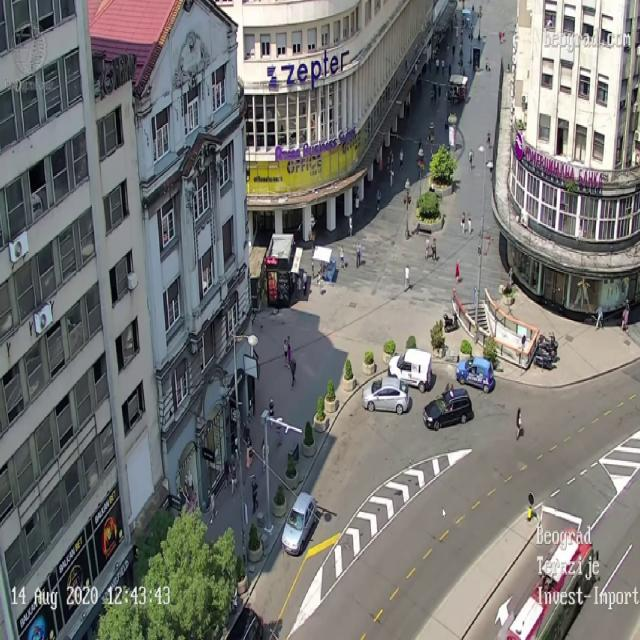bus: (506, 530, 596, 640)
car: (281, 492, 317, 556), (423, 391, 475, 431), (388, 347, 436, 390), (361, 376, 409, 415), (458, 352, 497, 393), (225, 608, 265, 640)
